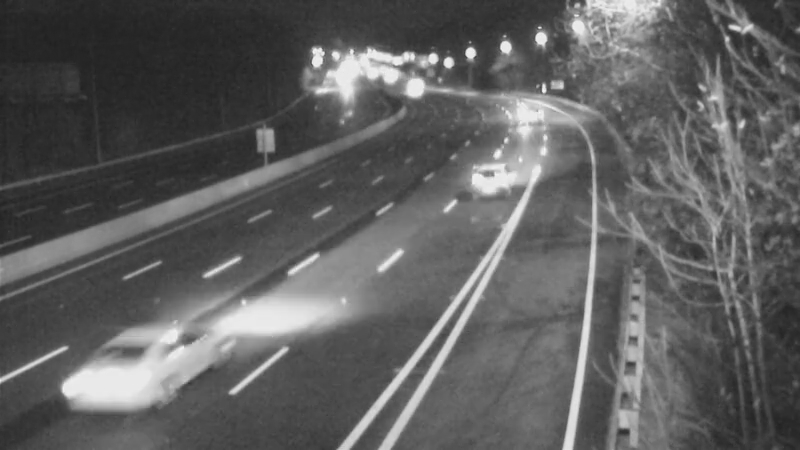vehicle: (65, 317, 175, 427), (458, 135, 538, 215), (380, 58, 430, 108), (390, 66, 440, 116), (519, 98, 569, 148)
